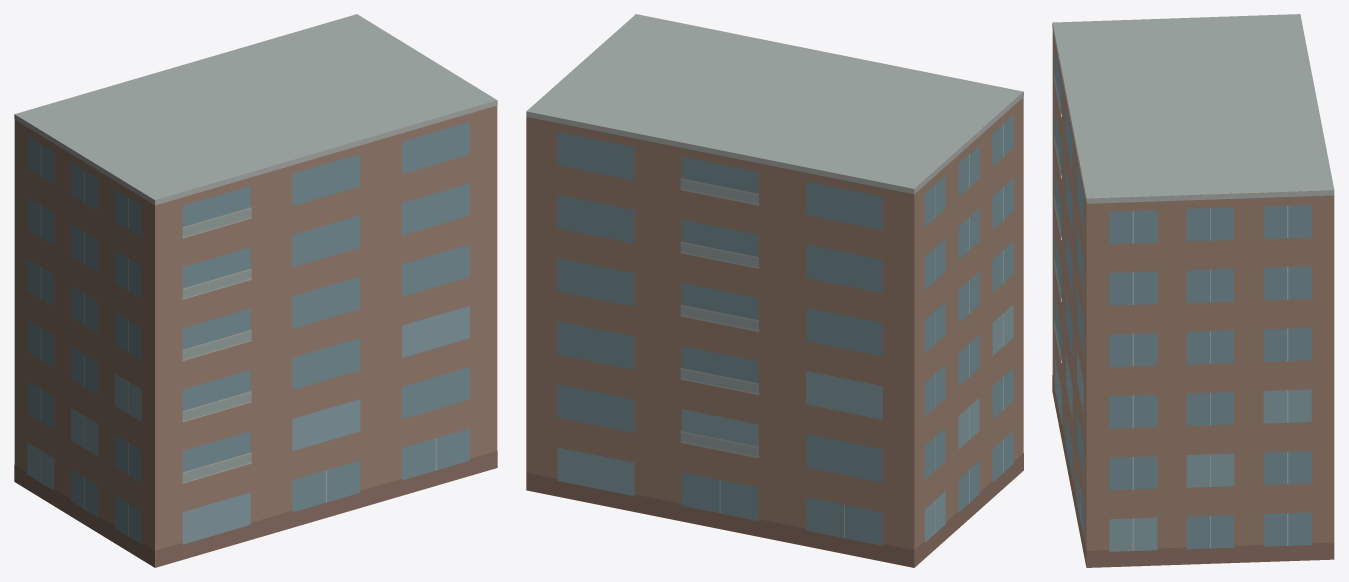
Rendered from survey-upis-32750144.glb.
3 renders of one model, left to right at view 1: azimuth 30°, elevation 25°; view 2: azimuth 150°, elevation 25°; view 3: azimuth 270°, elevation 25°, orthographic. The views are drawn at different scales.
Parts seen in each view (by area): view 1: survey-upis-32750144.tmp; view 2: survey-upis-32750144.tmp; view 3: survey-upis-32750144.tmp.
Part boxes in pixels (x1,y1,x2,y2): survey-upis-32750144.tmp: (14, 14, 497, 567); survey-upis-32750144.tmp: (526, 14, 1023, 567); survey-upis-32750144.tmp: (1052, 14, 1334, 567).
Size of the model in its own units: 18.55 by 17.3 by 11.98.
